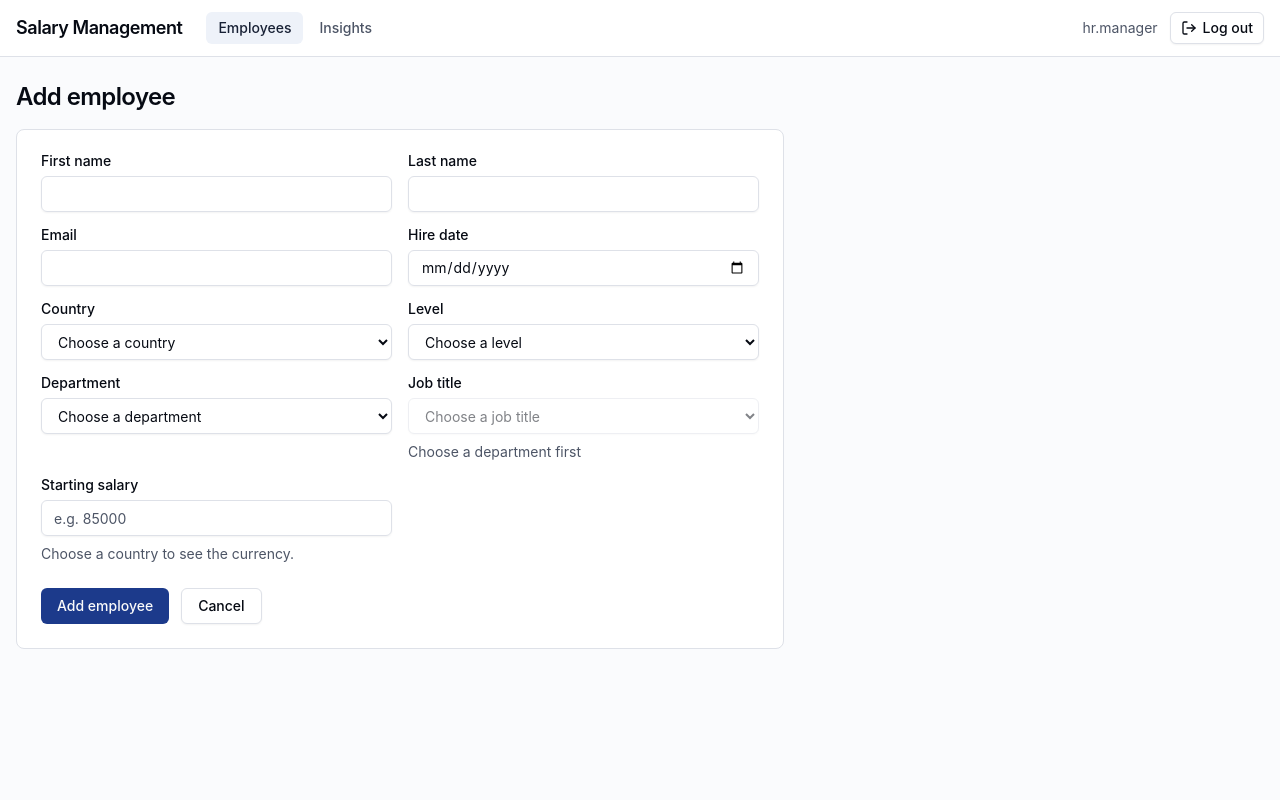
add employee form › marks invalid fields for screen readers and links each to its message
Expected: the heading "Add employee" is shown, [16,82,175,111]
Click the button "Add employee" at (105, 606), box [41,588,169,624]
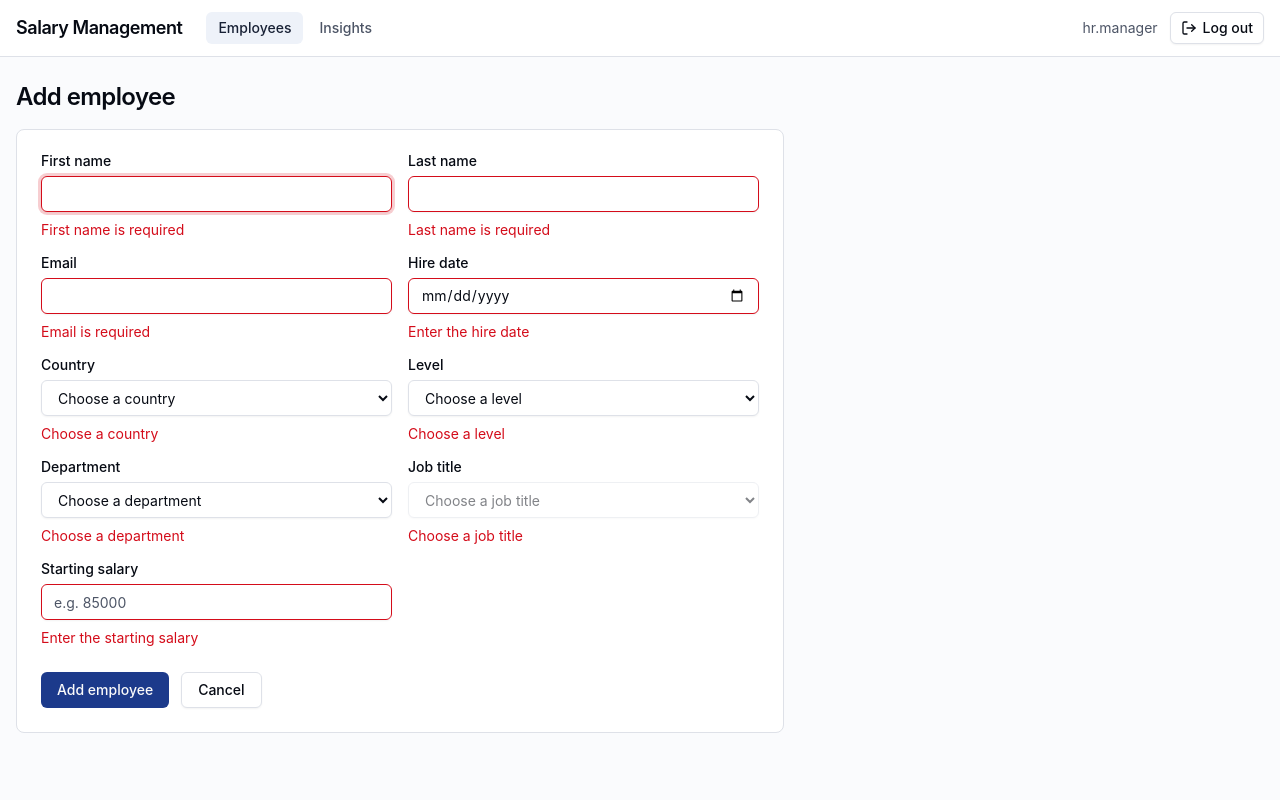
Result: the text with id "email-error" reads "Email is required" at [41,323,150,340]
